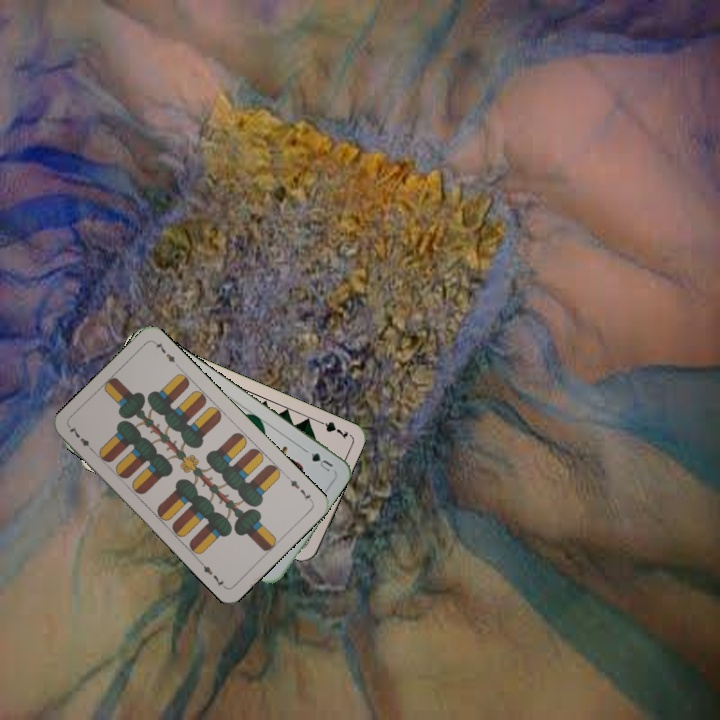E7: (65, 422, 97, 455), (286, 476, 315, 504)
G7: (313, 416, 351, 442)
GU: (301, 445, 336, 474)
